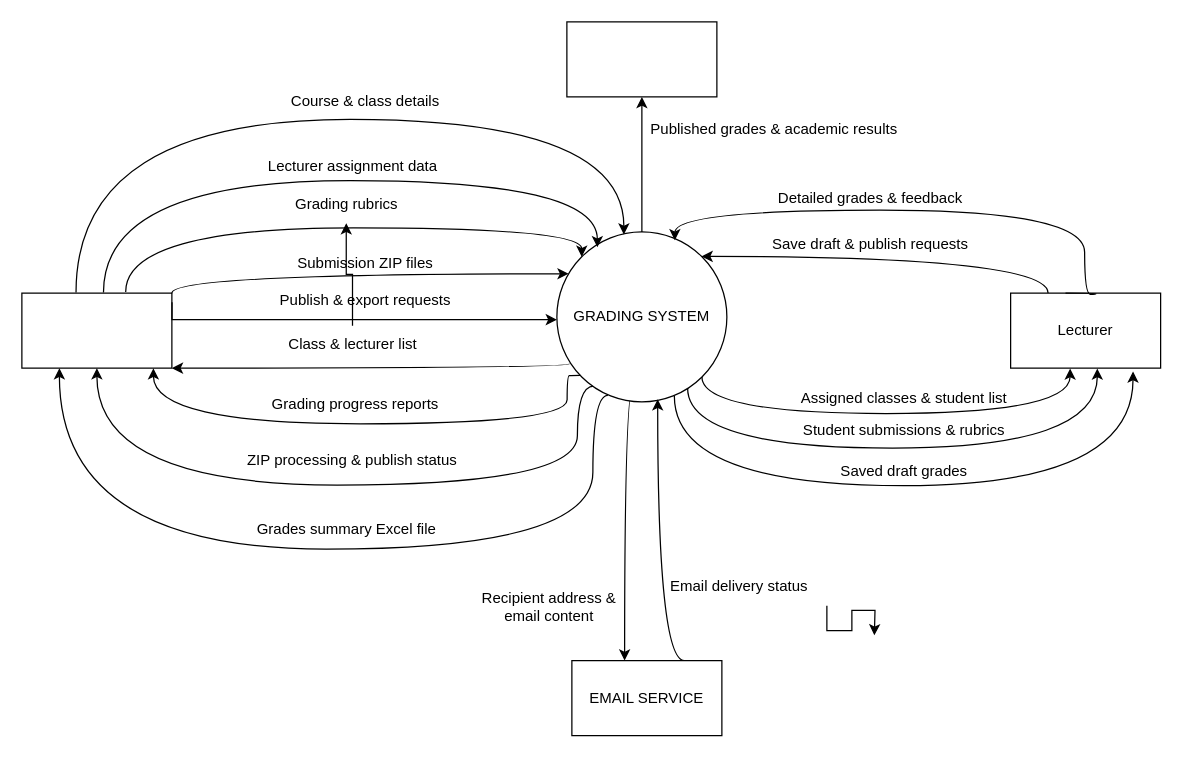
Image size: 1183x758. Some labels were removed from this diagram. The box of each missing label's shape, as (x1, y1, x2, y2) in pixels:
ACADEMIC STAFF: (21, 292, 172, 368)
Student: (566, 21, 717, 97)
